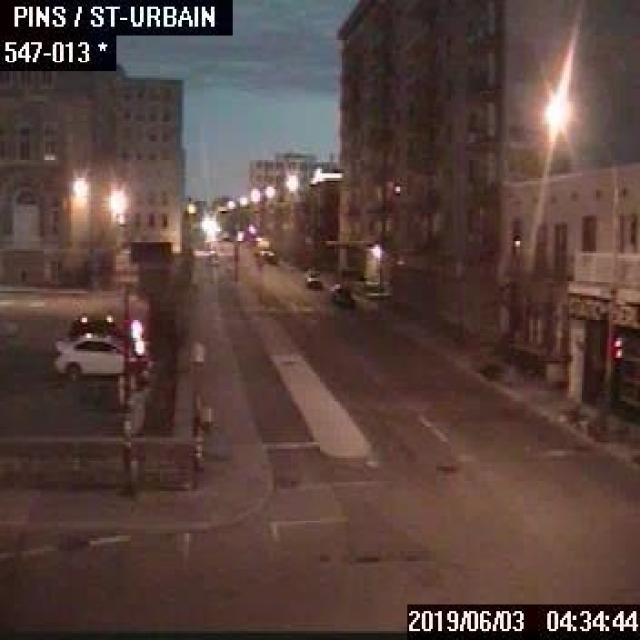vehicle: (54, 330, 148, 380), (69, 312, 137, 341), (330, 282, 348, 304), (303, 266, 320, 288), (258, 244, 274, 260)
